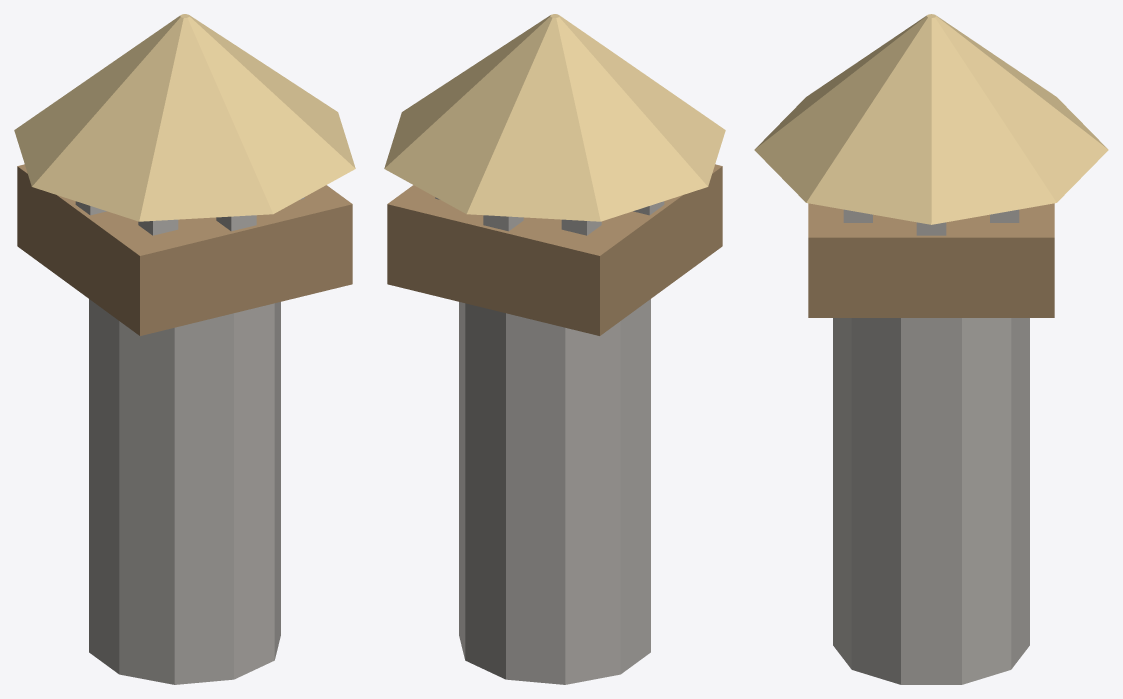
Rendered from Watchtower.fbx.
3 views of the same model, side by side, from view 1: azimuth 30°, elevation 25°; view 2: azimuth 150°, elevation 25°; view 3: azimuth 270°, elevation 25° (orthographic).
Visible parts, largest first — view 1: Tower, Roof.002, Top; view 2: Tower, Roof.002, Top; view 3: Tower, Roof.002, Top.
Part boxes in pixels (x1,y1,x2,y2): Tower: (89,299,280,684); Roof.002: (14,14,355,221); Top: (17,164,352,335); Tower: (459,299,650,684); Roof.002: (384,14,725,221); Top: (387,164,722,335); Tower: (833,318,1029,684); Roof.002: (754,14,1108,224); Top: (808,203,1054,317).
Bounding box in the file's own units: 360 × 705 × 360.
